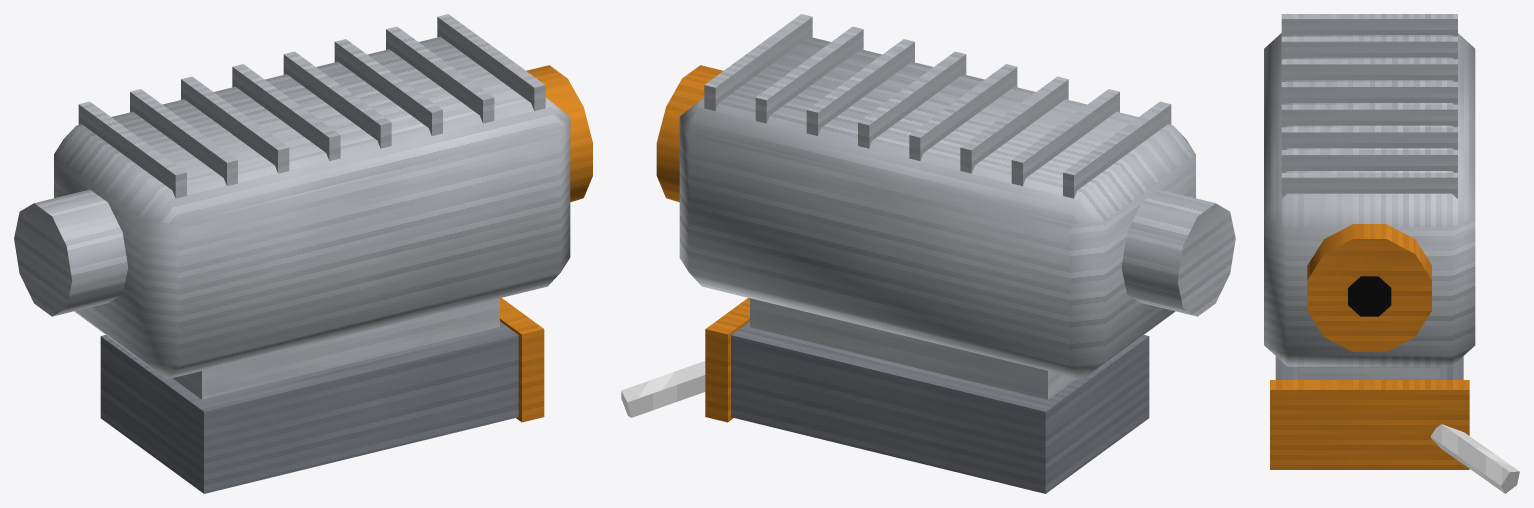
Rendered from compressor_n3.glb.
3 renders of one model, left to right at view 1: azimuth 30°, elevation 25°; view 2: azimuth 150°, elevation 25°; view 3: azimuth 270°, elevation 25°, orthographic. The views are drawn at different scales.
Parts seen in each view (by area): view 1: compressor_n3; view 2: compressor_n3; view 3: compressor_n3.
Part boxes in pixels (x1,y1,x2,y2): compressor_n3: (14, 14, 592, 493); compressor_n3: (621, 14, 1235, 493); compressor_n3: (1264, 14, 1519, 493).
Bounding box in the file's own units: 0.463 × 0.2775 × 0.2179.
Materials: 3 (3 with a texture image).
